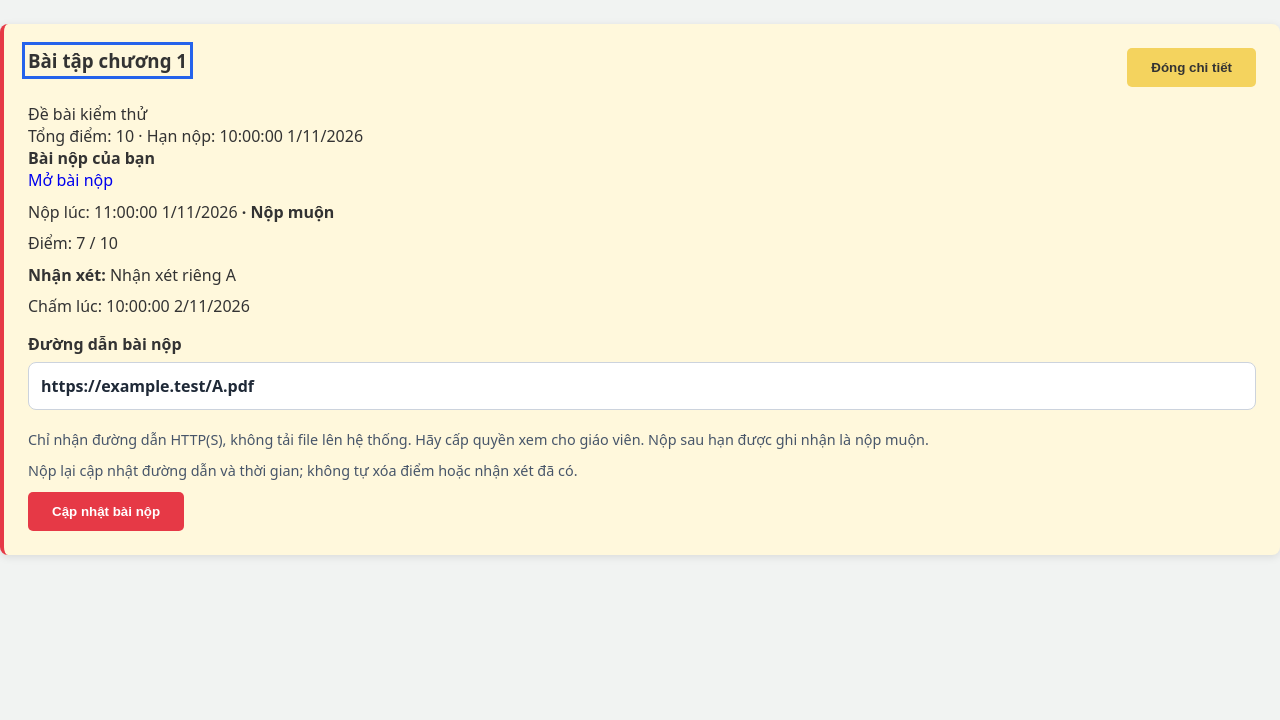
lỗi ghi giữ nội dung nhập, không hiển thị chi tiết kỹ thuật nội bộ
Replace the text in the field named "fileUrl" with "https://example.test/retry.pdf" at (642, 386), box [28,362,1256,410]
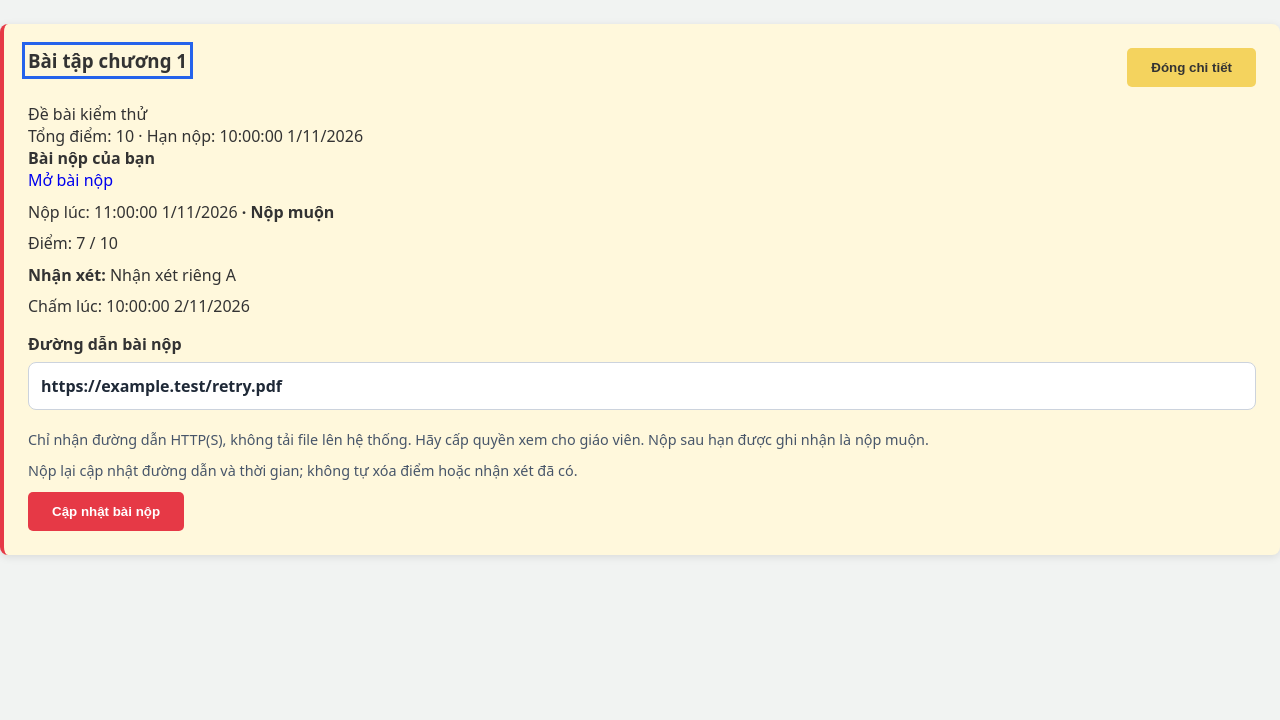
Submit the form named "Nộp bài tập", box [28,333,1256,531]
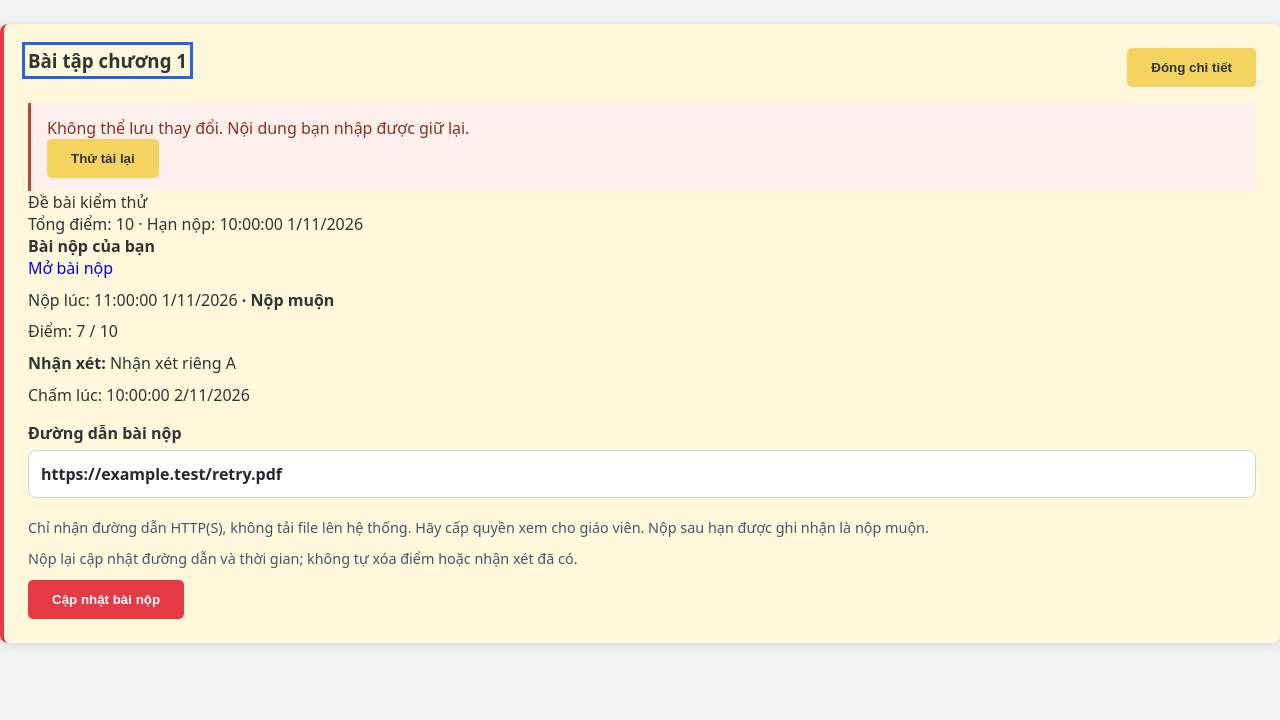
Now the text "Nội dung bạn nhập được giữ lại" is shown, box [47,117,469,139]
